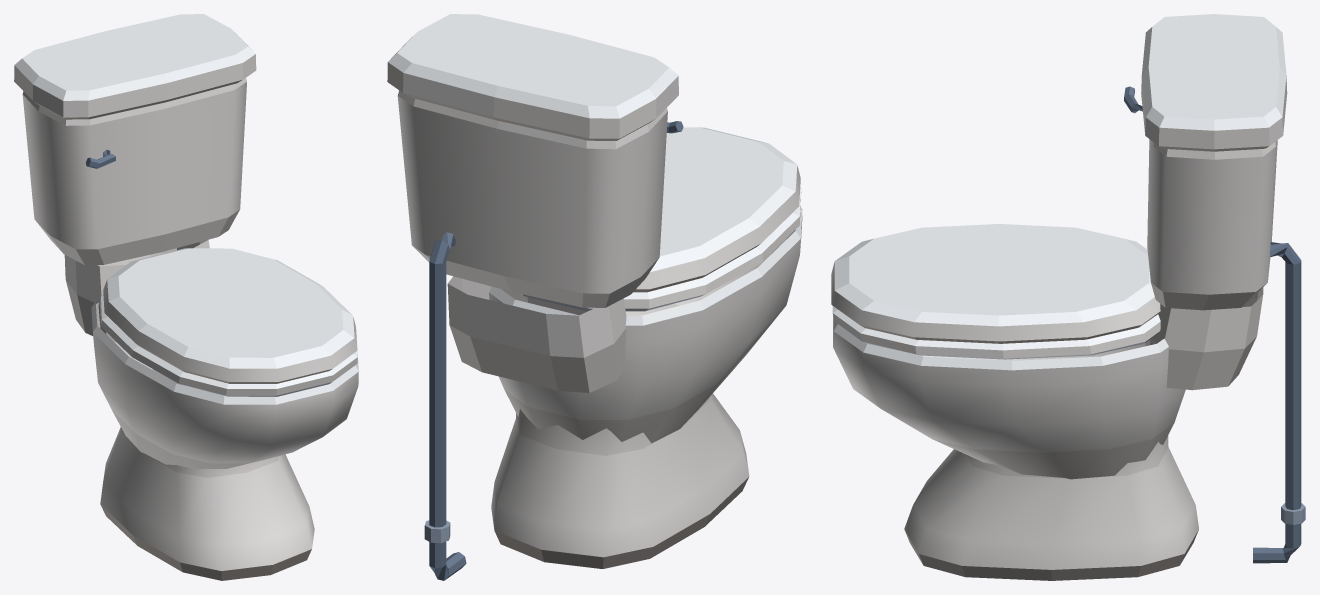
The model's file is object-toilet.glb.
3 views of the same model, side by side, from view 1: azimuth 30°, elevation 25°; view 2: azimuth 150°, elevation 25°; view 3: azimuth 270°, elevation 25° (orthographic). The views are drawn at different scales.
Parts seen in each view (by area): view 1: Bathroom - Toilet; view 2: Bathroom - Toilet; view 3: Bathroom - Toilet.
Boxes of the visible parts, x1,y1,x2,y2 form: Bathroom - Toilet: (14, 14, 358, 580); Bathroom - Toilet: (387, 14, 802, 580); Bathroom - Toilet: (831, 14, 1305, 580).
Bounding box in the file's own units: 0.388 × 0.769 × 0.6948.
1 material, 1 textured.
